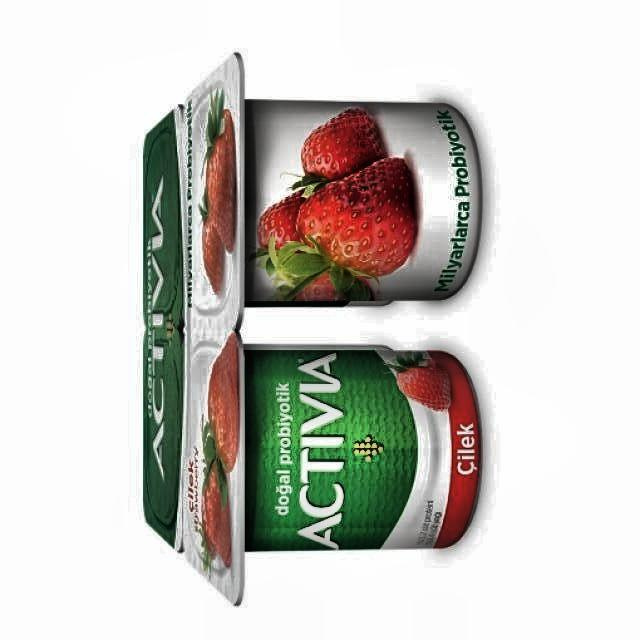plastic: (142, 54, 481, 602)
